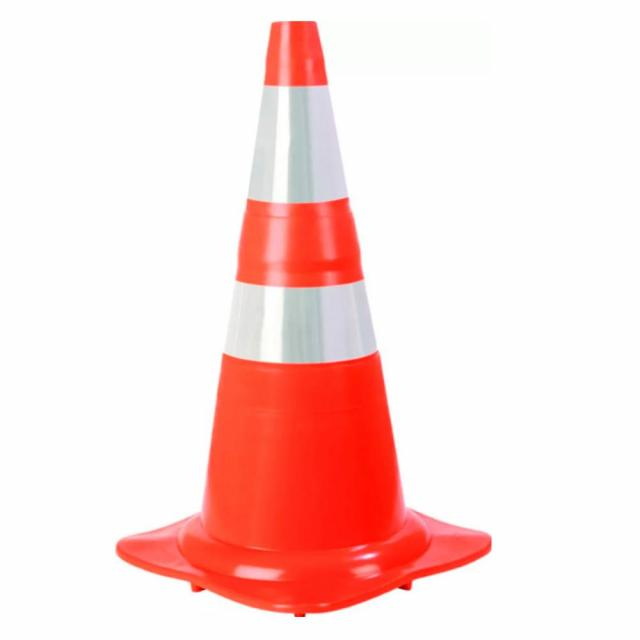cone: (101, 14, 527, 624)
